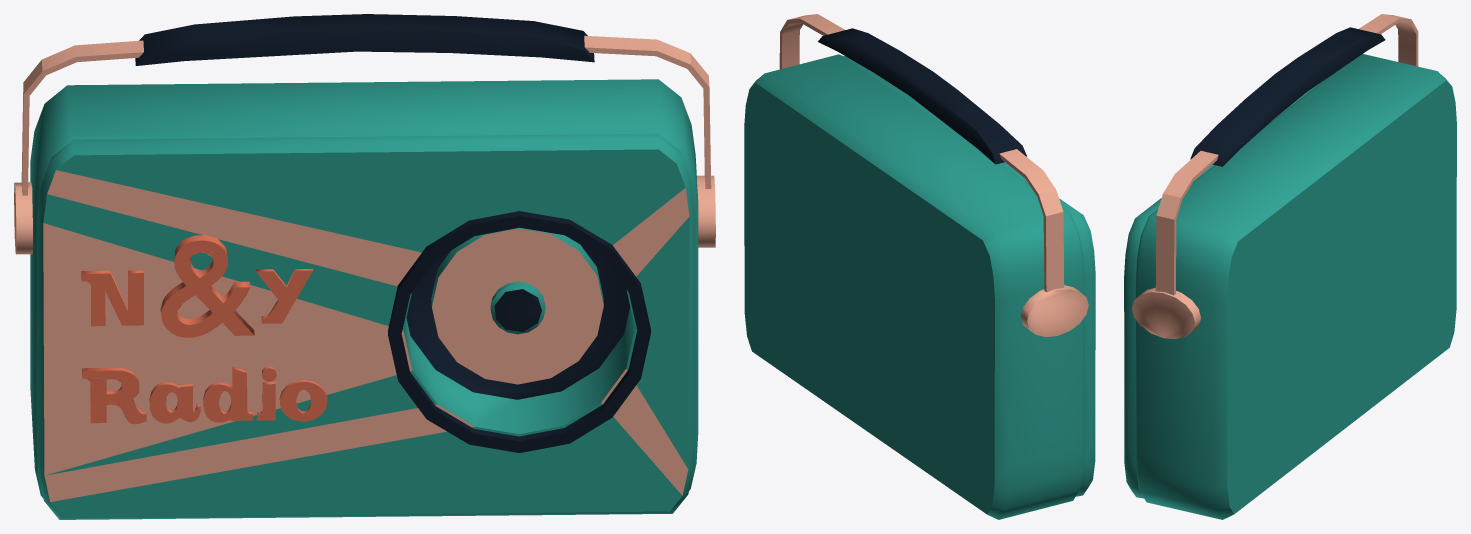
Rendered from radio.gltf.
3 views of the same model, side by side, from view 1: azimuth 30°, elevation 25°; view 2: azimuth 150°, elevation 25°; view 3: azimuth 270°, elevation 25° (orthographic). The views are drawn at different scales.
Visible parts, largest first — view 1: radio; view 2: radio; view 3: radio.
Part boxes in pixels (x1,y1,x2,y2): radio: (14,14,715,519); radio: (744,14,1095,519); radio: (1124,14,1456,519).
Size of the model in its own units: 1.38 by 1.08 by 0.9368.
